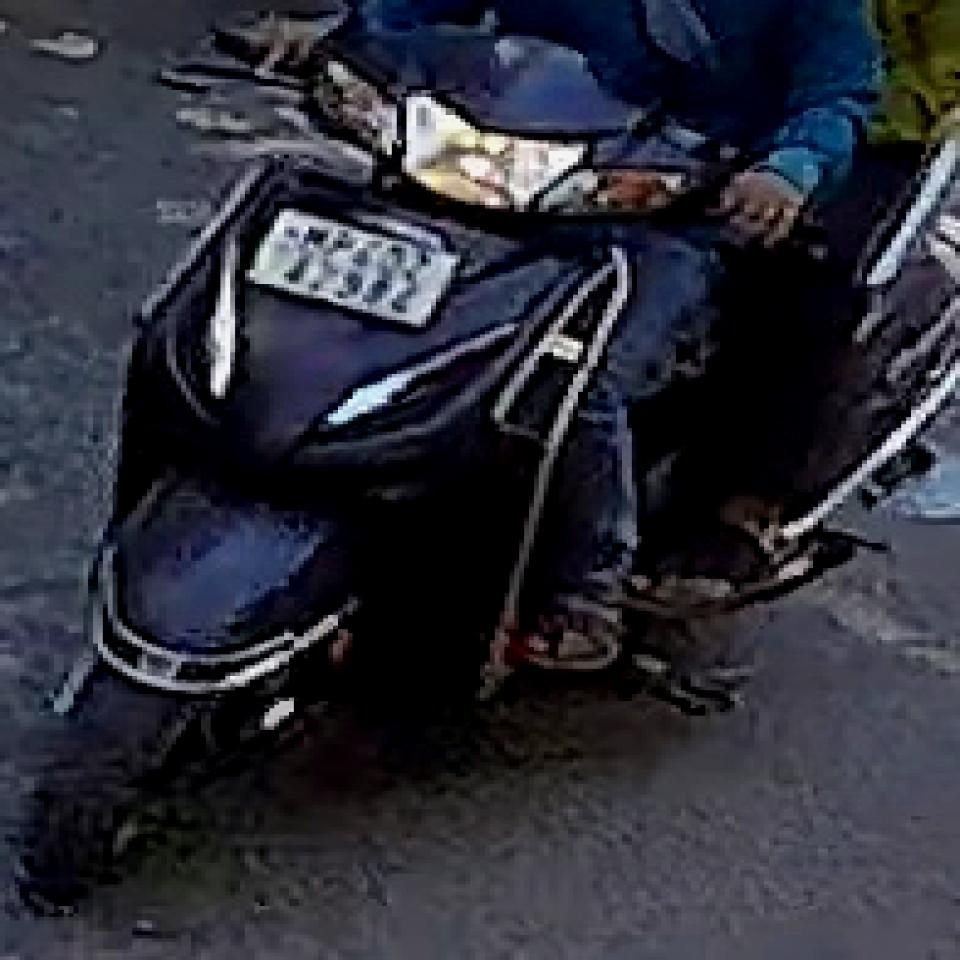head_light: (404, 87, 595, 207)
